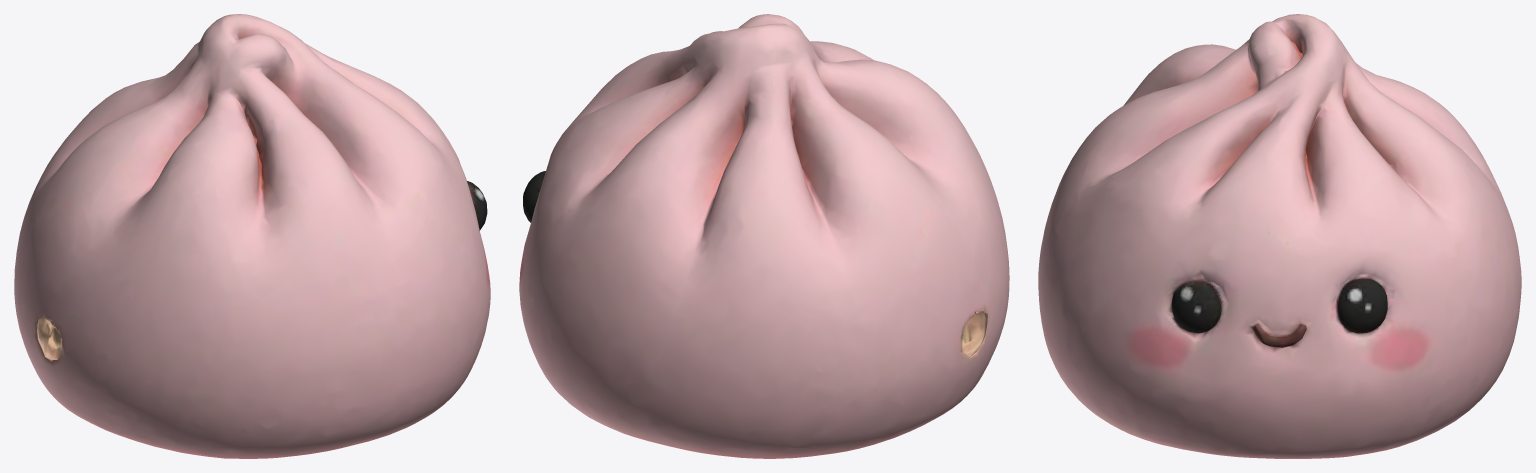
The model's file is squishy.glb.
3 views of the same model, side by side, from view 1: azimuth 30°, elevation 25°; view 2: azimuth 150°, elevation 25°; view 3: azimuth 270°, elevation 25° (orthographic). The views are drawn at different scales.
Parts seen in each view (by area): view 1: tripo_node_85b235d3-5193-468c-a708-f30e8a799854; view 2: tripo_node_85b235d3-5193-468c-a708-f30e8a799854; view 3: tripo_node_85b235d3-5193-468c-a708-f30e8a799854.
Part boxes in pixels (x1=…): tripo_node_85b235d3-5193-468c-a708-f30e8a799854: x1=14, y1=14, x2=490, y2=458; tripo_node_85b235d3-5193-468c-a708-f30e8a799854: x1=519, y1=14, x2=1009, y2=458; tripo_node_85b235d3-5193-468c-a708-f30e8a799854: x1=1038, y1=14, x2=1521, y2=458.
Bounding box in the file's own units: 0.9966 × 0.8325 × 1.
1 material, 1 textured.
